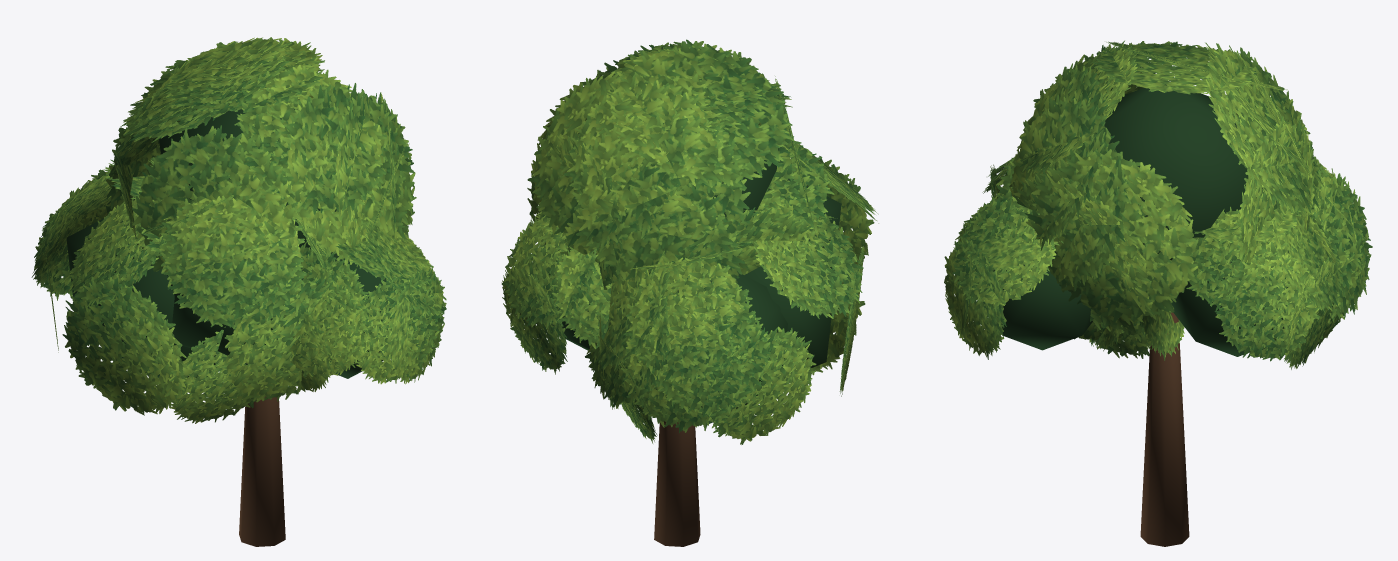
Rendered from tree-a.glb.
3 renders of one model, left to right at view 1: azimuth 30°, elevation 25°; view 2: azimuth 150°, elevation 25°; view 3: azimuth 270°, elevation 25°, orthographic.
Visible parts, largest first — view 1: tree-a; view 2: tree-a; view 3: tree-a.
Boxes of the visible parts, left/top/right/bottom form: tree-a: left=31, top=37, right=446, bottom=546; tree-a: left=501, top=39, right=878, bottom=546; tree-a: left=944, top=40, right=1372, bottom=546.
Bounding box in the file's own units: 5.45 × 7.53 × 5.99.
3 materials, 1 textured.
